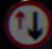Two way: (12, 4, 49, 41)
